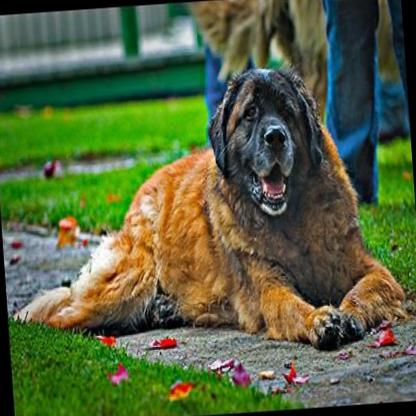Leonberg: (0, 50, 411, 373)
